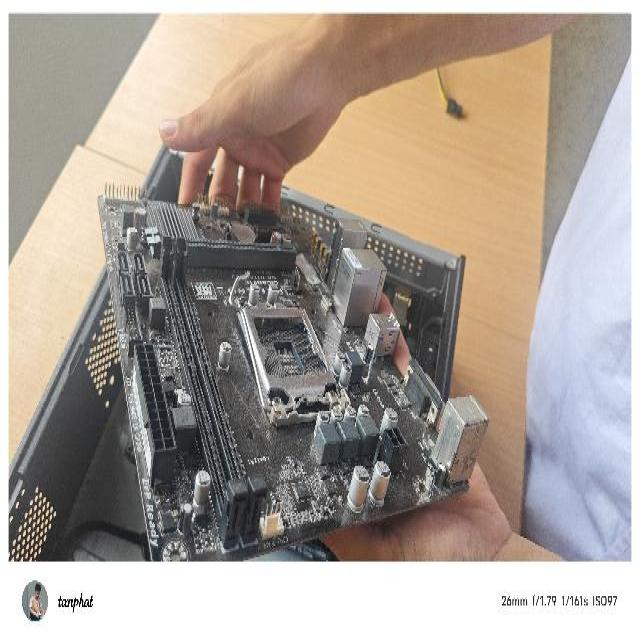Mainboard: (95, 170, 463, 561)
